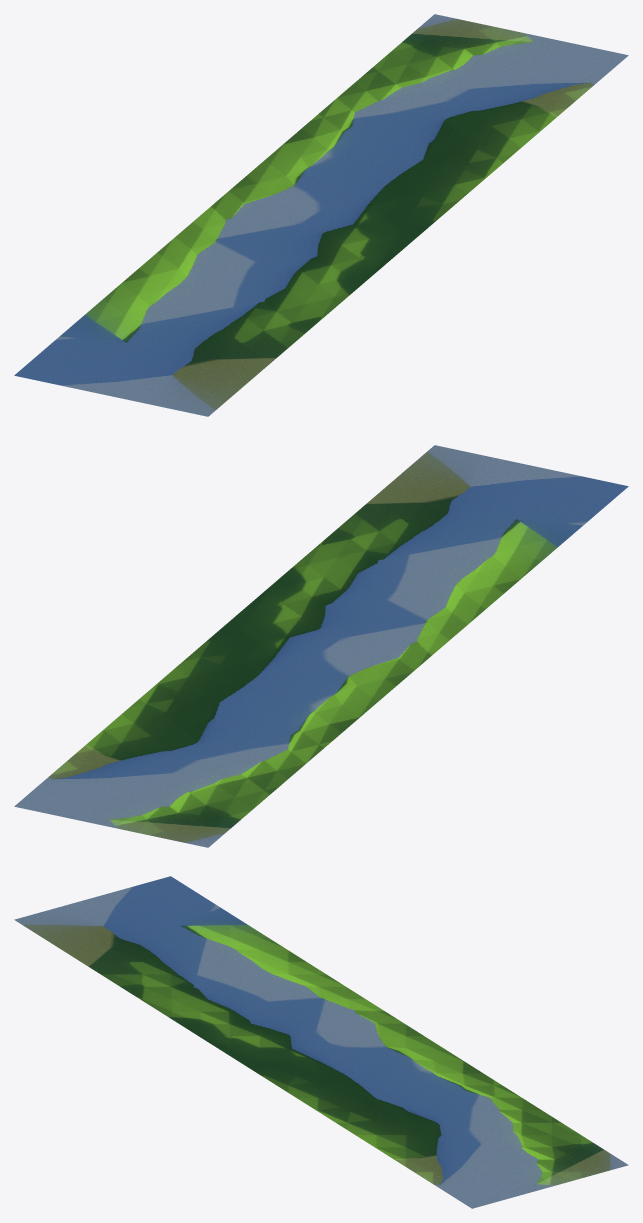
Rendered from river.glb.
3 views of the same model, one above another, from view 1: azimuth 30°, elevation 25°; view 2: azimuth 210°, elevation 25°; view 3: azimuth 270°, elevation 25° (orthographic). The views are drawn at different scales.
Parts seen in each view (by area): view 1: River; view 2: River; view 3: River.
Boxes of the visible parts, <box> form: River: <box>14,14,628,416</box>; River: <box>14,445,628,847</box>; River: <box>14,876,628,1208</box>.
Bounding box in the file's own units: 12.82 × 1.49e-08 × 10.02.
1 material, 1 textured.
